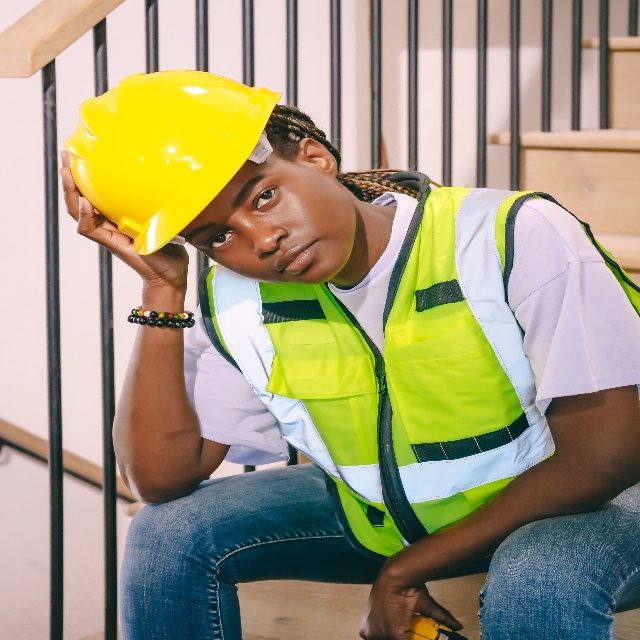Sin_guantes: (57, 147, 189, 293), (359, 564, 466, 640)
